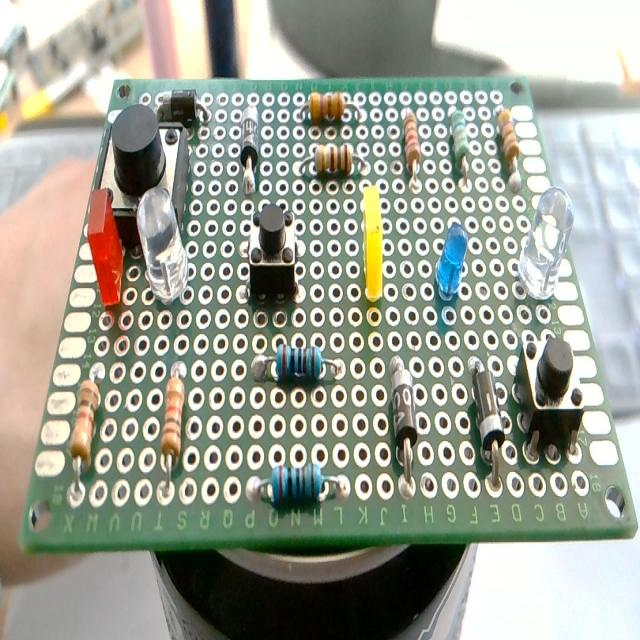diode: (466, 355, 504, 489), (389, 358, 419, 498), (157, 88, 209, 124), (240, 104, 260, 195)
led: (517, 186, 575, 303), (138, 186, 190, 306), (87, 188, 125, 308), (435, 221, 469, 302), (363, 184, 384, 305)
resistor: (245, 462, 349, 506), (160, 362, 187, 488), (253, 346, 342, 384), (70, 372, 101, 473), (301, 150, 364, 182), (497, 107, 521, 190), (448, 107, 471, 192), (307, 91, 348, 124), (403, 108, 421, 182)
switch: (96, 100, 190, 250), (516, 333, 586, 459), (248, 201, 301, 303)
